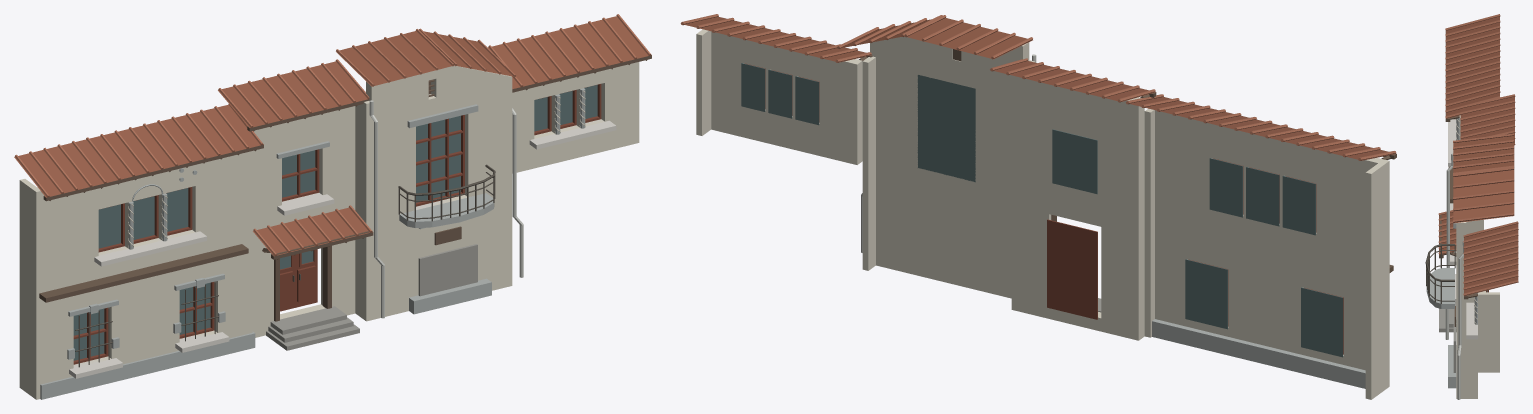
The model's file is changning-zhou-gucheng-courtyard-lod.glb.
3 renders of one model, left to right at view 1: azimuth 30°, elevation 25°; view 2: azimuth 150°, elevation 25°; view 3: azimuth 270°, elevation 25°, orthographic. The views are drawn at different scales.
Parts seen in each view (by area): view 1: 泰安路115弄6号周谷城旧居（庭院入口立面）; view 2: 泰安路115弄6号周谷城旧居（庭院入口立面）; view 3: 泰安路115弄6号周谷城旧居（庭院入口立面）.
Boxes of the visible parts, x1,y1,x2,y2 form: 泰安路115弄6号周谷城旧居（庭院入口立面）: [14, 14, 651, 399]; 泰安路115弄6号周谷城旧居（庭院入口立面）: [680, 14, 1396, 399]; 泰安路115弄6号周谷城旧居（庭院入口立面）: [1425, 14, 1518, 399].
Bounding box in the file's own units: 20.6 × 7.86 × 3.19.
